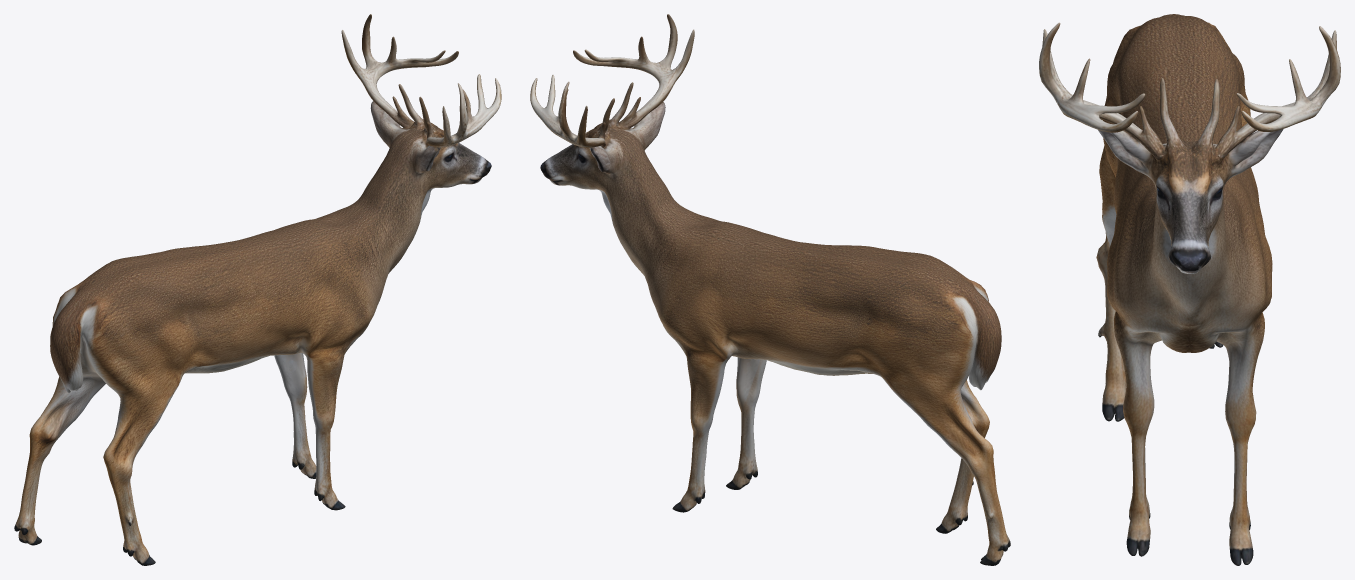
The model's file is deer.glb.
3 views of the same model, side by side, from view 1: azimuth 30°, elevation 25°; view 2: azimuth 150°, elevation 25°; view 3: azimuth 270°, elevation 25° (orthographic). The views are drawn at different scales.
Visible parts, largest first — view 1: tripo_node_f5a904a2_1; view 2: tripo_node_f5a904a2_1; view 3: tripo_node_f5a904a2_1.
Part boxes in pixels (x1=…): tripo_node_f5a904a2_1: x1=14, y1=14, x2=501, y2=565; tripo_node_f5a904a2_1: x1=530, y1=14, x2=1010, y2=565; tripo_node_f5a904a2_1: x1=1039, y1=14, x2=1340, y2=565.
Size of the model in its own units: 97.89 by 84.89 by 39.06.
1 material, 1 textured.
